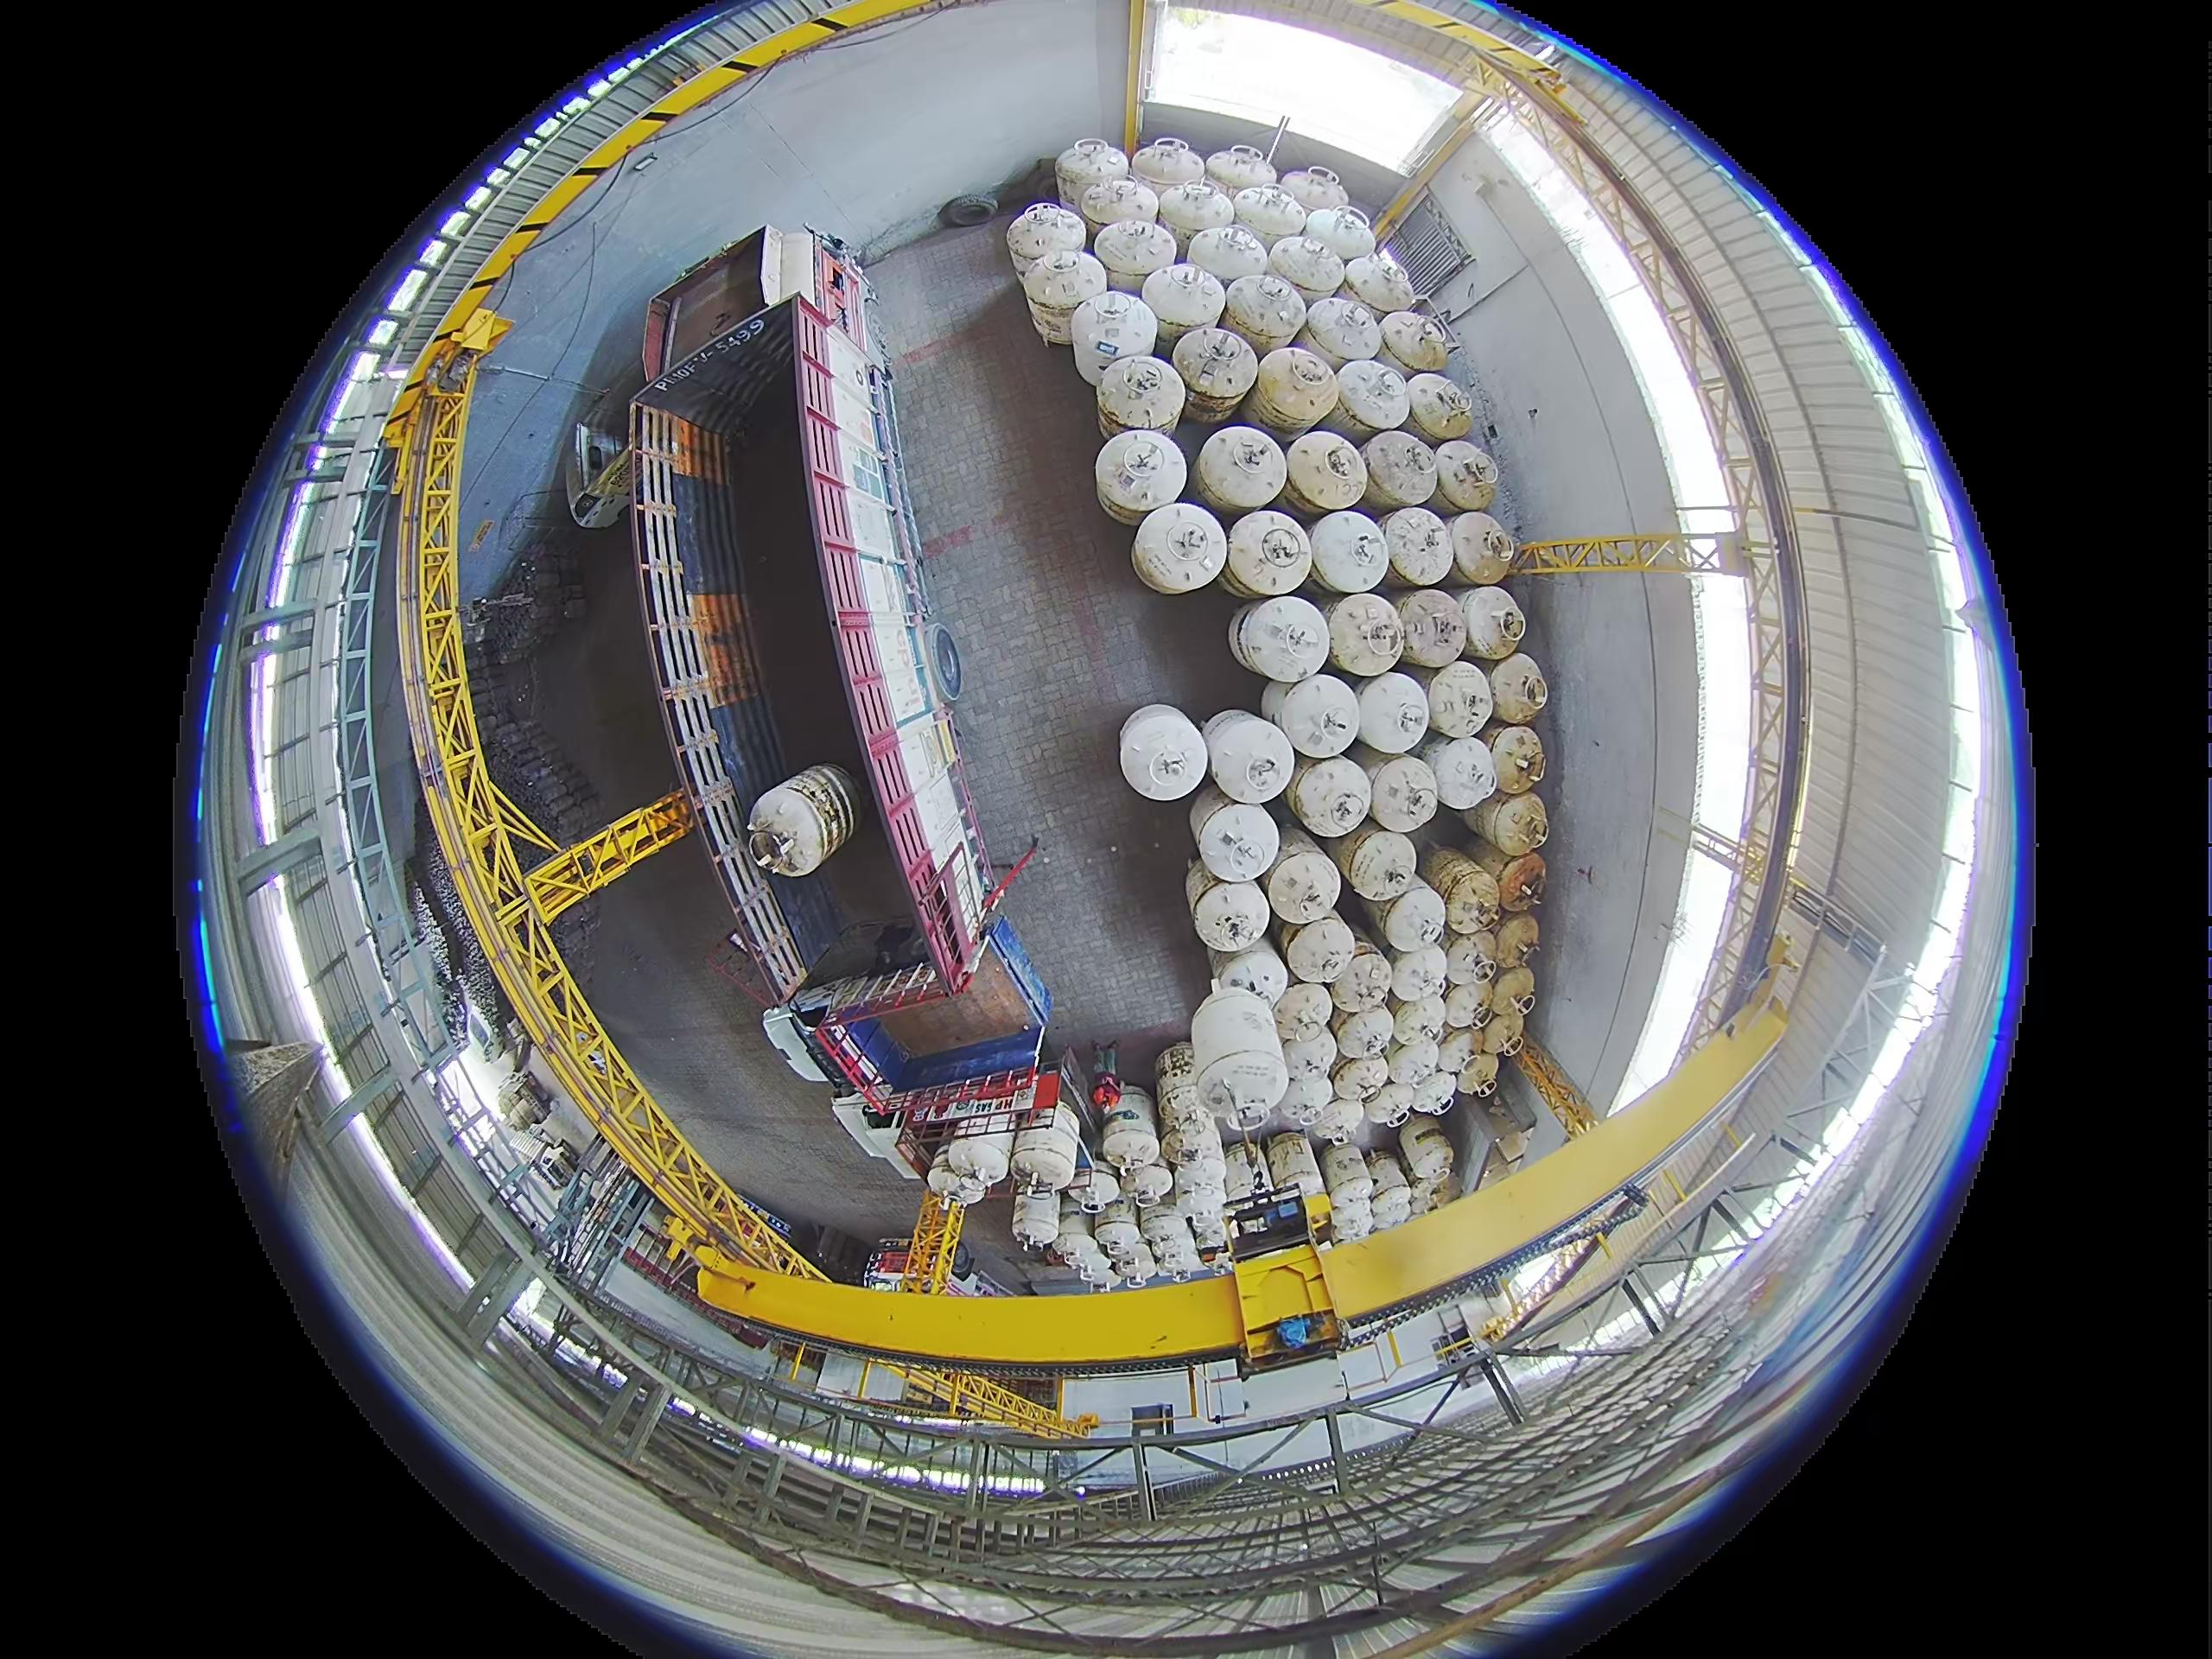cylinder: (521, 390, 631, 528), (1177, 859, 1291, 972), (745, 765, 859, 878), (1132, 502, 1228, 594), (1094, 429, 1184, 526), (1097, 683, 1186, 781), (1235, 594, 1329, 685), (1170, 324, 1259, 418), (1197, 425, 1287, 516), (1205, 711, 1294, 803), (1252, 345, 1341, 436), (1275, 671, 1362, 762), (1224, 511, 1313, 598), (1284, 430, 1369, 518), (1287, 755, 1374, 838), (1069, 291, 1151, 380), (1308, 509, 1392, 594), (1097, 352, 1183, 436), (1221, 272, 1308, 354), (1008, 1129, 1090, 1216), (1141, 260, 1224, 343), (1324, 592, 1406, 676), (1334, 821, 1416, 904), (1332, 355, 1411, 437), (1364, 429, 1440, 512), (1266, 823, 1343, 906), (1355, 673, 1432, 755), (1423, 734, 1500, 814), (1383, 505, 1458, 587), (1393, 589, 1468, 669), (1282, 915, 1362, 990), (1303, 295, 1385, 368), (1188, 221, 1273, 291), (1367, 755, 1442, 833), (1420, 847, 1494, 925), (1425, 659, 1496, 741), (1157, 179, 1235, 253), (1055, 138, 1130, 213), (1094, 218, 1174, 288), (1266, 232, 1345, 301), (1458, 586, 1527, 660), (1082, 178, 1160, 244), (1402, 371, 1472, 444), (1007, 202, 1083, 268), (1451, 511, 1519, 584), (1379, 880, 1447, 953), (1301, 204, 1378, 268), (1129, 138, 1205, 202), (1233, 185, 1310, 249), (1432, 439, 1500, 511), (1379, 310, 1453, 376), (1341, 251, 1416, 314), (1155, 1046, 1205, 1138), (1484, 652, 1548, 723), (1482, 725, 1545, 798), (1129, 1206, 1205, 1265), (1486, 789, 1550, 857), (1271, 981, 1336, 1047), (1329, 948, 1395, 1012), (1205, 145, 1278, 200), (1386, 948, 1449, 1011), (1277, 166, 1348, 218), (1022, 289, 1083, 350), (1331, 1007, 1395, 1065), (1399, 1117, 1454, 1183), (1385, 1037, 1444, 1098), (1277, 1030, 1334, 1091), (1442, 932, 1500, 993), (1318, 1143, 1372, 1208), (1388, 995, 1446, 1054), (1496, 852, 1548, 913), (1308, 1094, 1367, 1147), (1331, 1054, 1392, 1105), (1282, 1140, 1327, 1204), (1442, 981, 1496, 1035), (1475, 1140, 1529, 1194), (1487, 964, 1536, 1023), (1493, 911, 1541, 971), (1475, 1009, 1527, 1063), (1055, 1223, 1108, 1276), (1362, 1082, 1416, 1133), (1327, 1190, 1376, 1243), (1407, 1070, 1458, 1119), (1366, 1180, 1414, 1230), (1435, 1026, 1480, 1075), (1414, 1173, 1461, 1218), (1458, 1049, 1500, 1096), (1364, 1152, 1406, 1197), (941, 694, 972, 697)
truck: (399, 338, 801, 1305), (631, 249, 1049, 1023), (726, 1004, 1130, 1117), (826, 1073, 1127, 1225), (641, 221, 850, 425), (1217, 1178, 1343, 1373)
